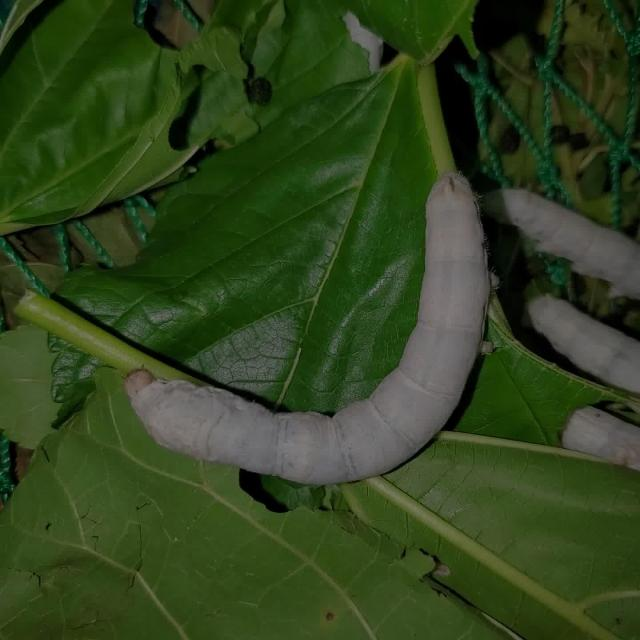Healthy: (93, 140, 520, 503)
